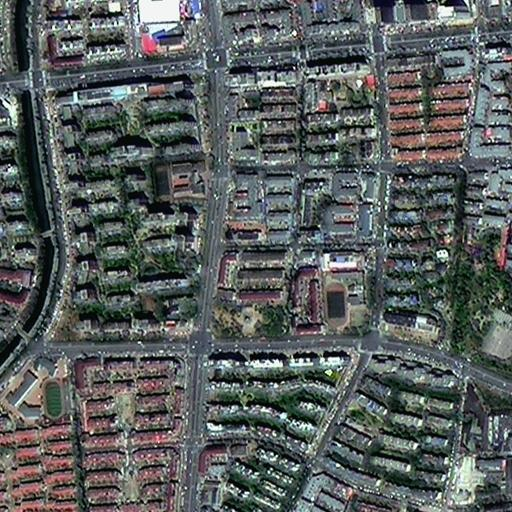school: (1, 353, 70, 424), (322, 266, 369, 334), (148, 156, 209, 204)
